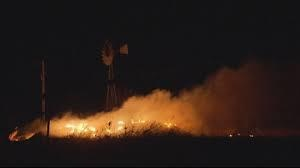fire: (7, 127, 35, 141)
